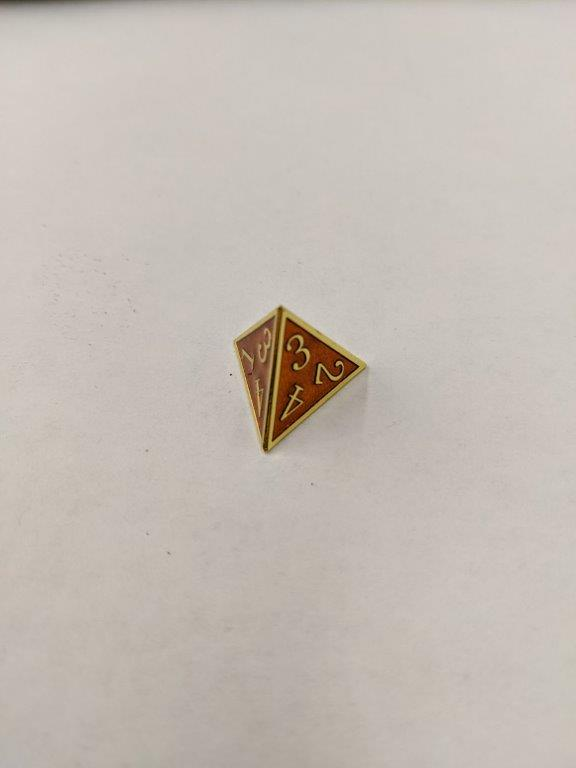d4-3: (230, 303, 369, 457)
